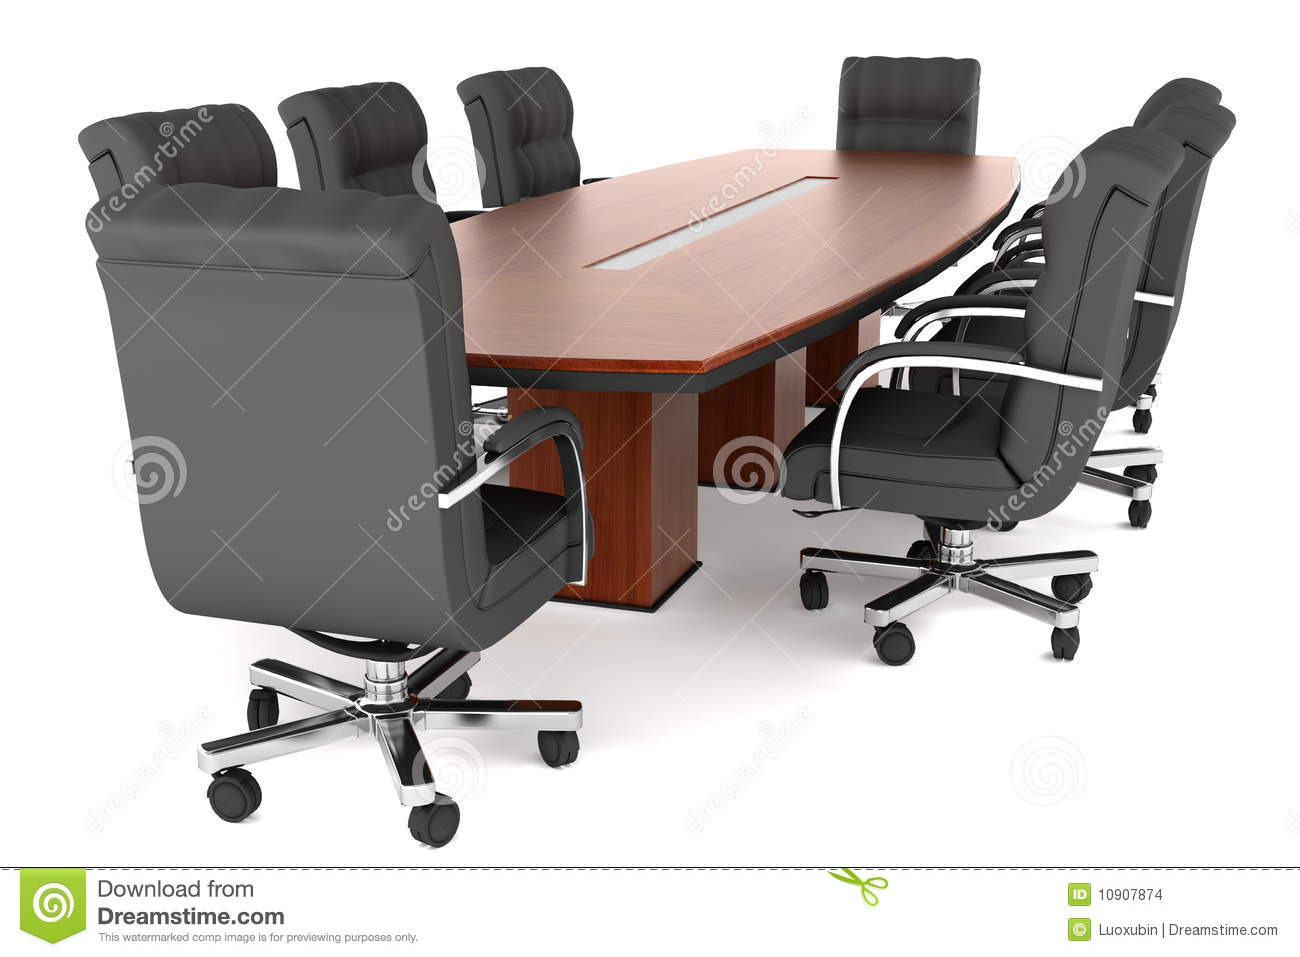conference_table: (443, 147, 1021, 614)
